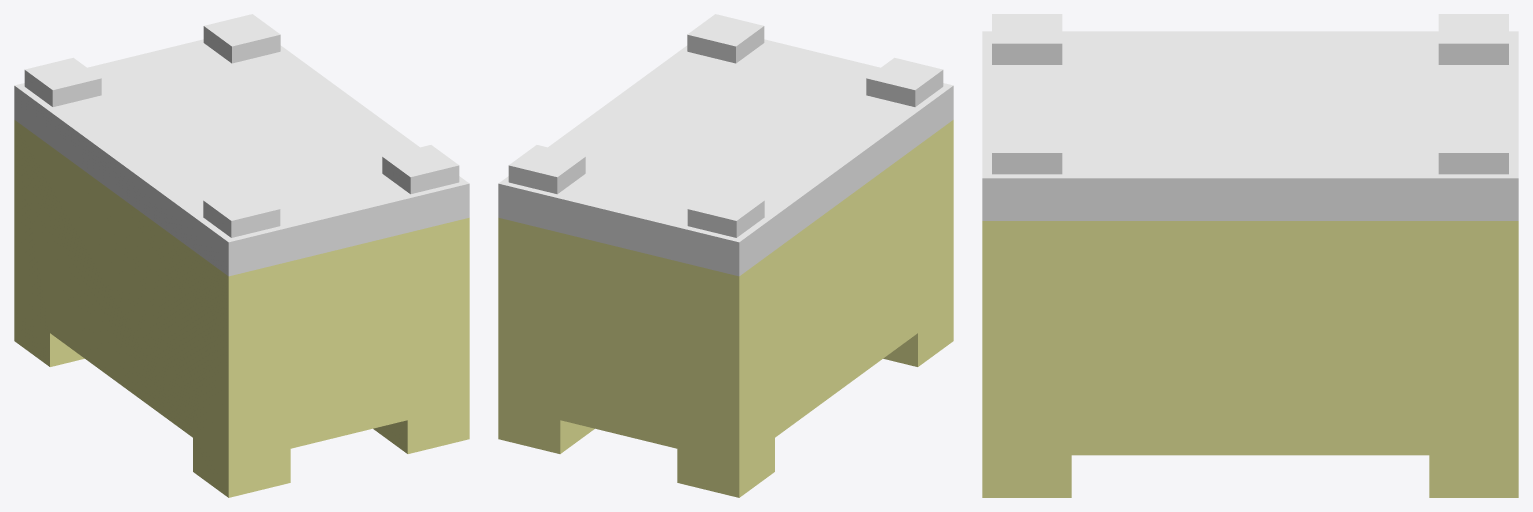
File: LKGLB.glb
3 renders of one model, left to right at view 1: azimuth 30°, elevation 25°; view 2: azimuth 150°, elevation 25°; view 3: azimuth 270°, elevation 25°, orthographic. The views are drawn at different scales.
Visible parts, largest first — view 1: imagetostl_mesh; view 2: imagetostl_mesh; view 3: imagetostl_mesh.
Part boxes in pixels (<box>): imagetostl_mesh: <box>14,14,469,497</box>; imagetostl_mesh: <box>498,14,953,497</box>; imagetostl_mesh: <box>982,14,1518,497</box>.
Bounding box in the file's own units: 29.13 × 31.5 × 44.88.
